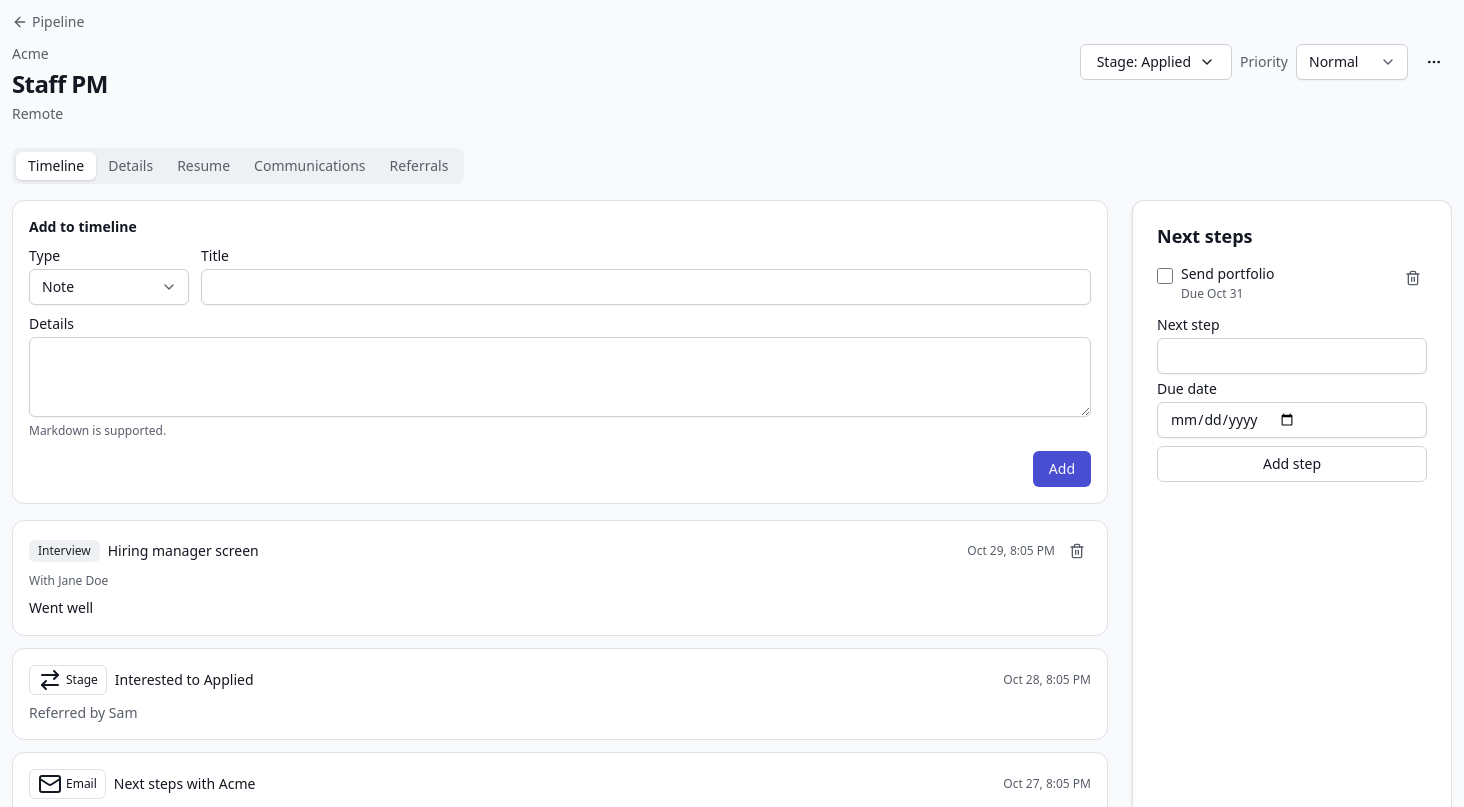
Test: OpportunityDetail › shows details with safe markdown, the posting link and attachments
The width and height of the screenshot is (1464, 807).
Click the tab "Details". click: (131, 166)
box: x1=96 y1=152 x2=165 y2=180
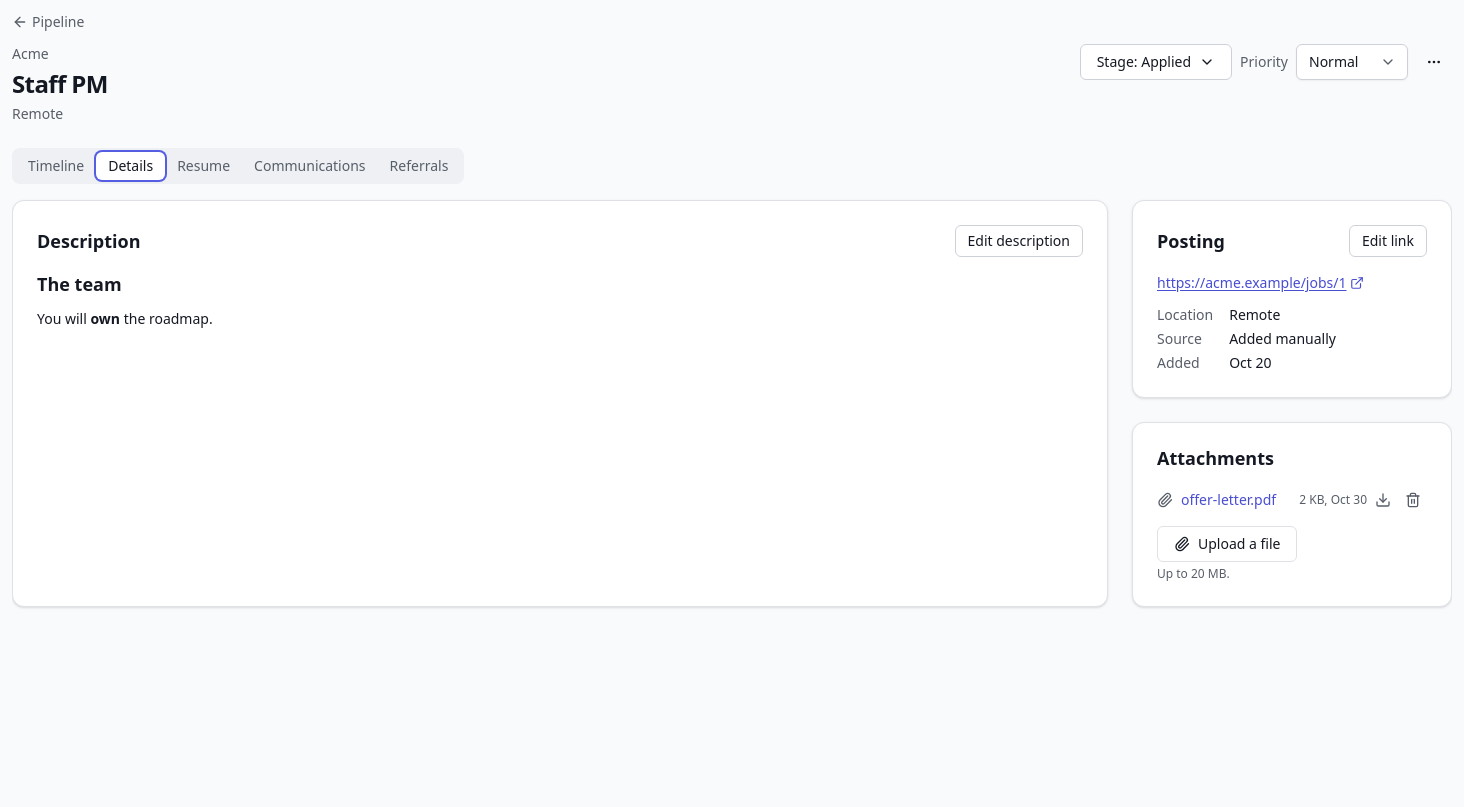
Expected: the heading "The team" is shown, x1=37 y1=272 x2=122 y2=296
